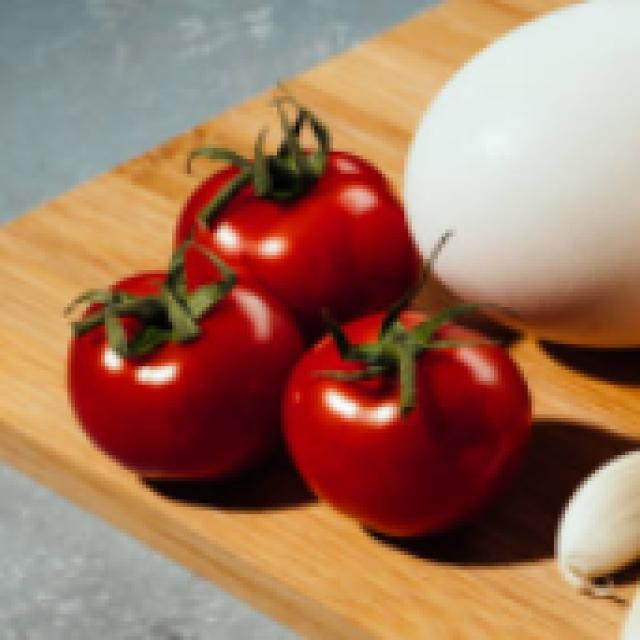Tomato: (280, 291, 538, 539), (69, 260, 283, 480)
